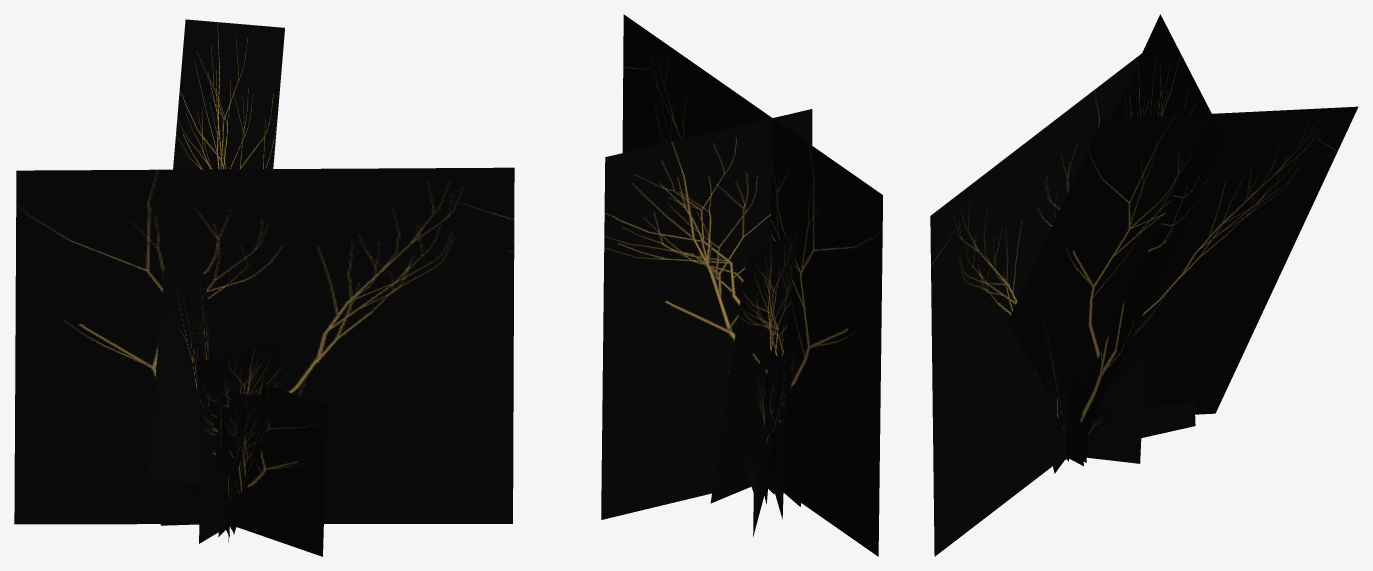
File: wft_spring_winter.glb
The picture shows the model from 3 angles, left to right: view 1: azimuth 30°, elevation 25°; view 2: azimuth 150°, elevation 25°; view 3: azimuth 270°, elevation 25°; orthographic projection. The views are drawn at different scales.
Visible parts, largest first — view 1: sommer; view 2: sommer; view 3: sommer.
Part boxes in pixels (x1,y1,x2,y2): sommer: [14, 19, 514, 556]; sommer: [601, 14, 882, 556]; sommer: [930, 14, 1358, 556].
Size of the model in its own units: 65.65 by 78.44 by 67.65.
1 material, 1 textured.
